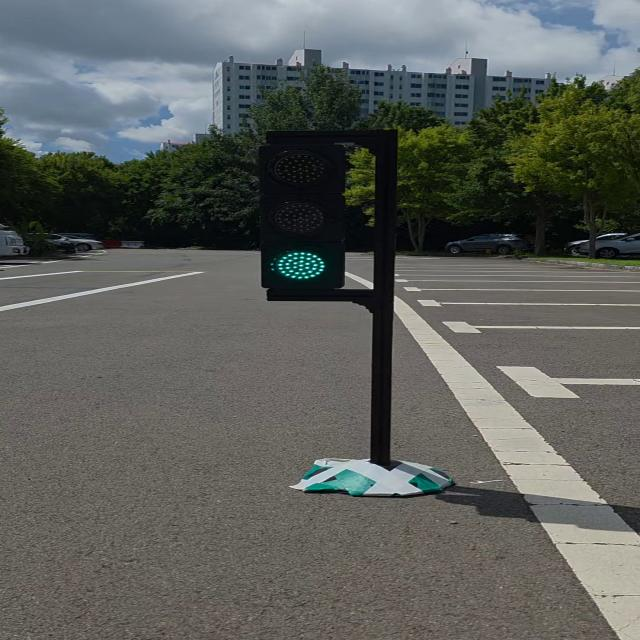green: (260, 132, 352, 300)
